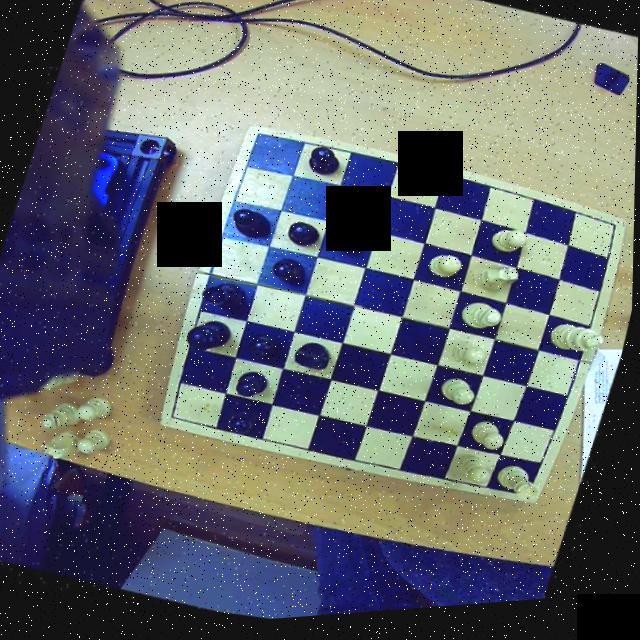chess-table-corners: (246, 126, 276, 156), (510, 488, 542, 514), (160, 402, 188, 431), (602, 226, 628, 252)
